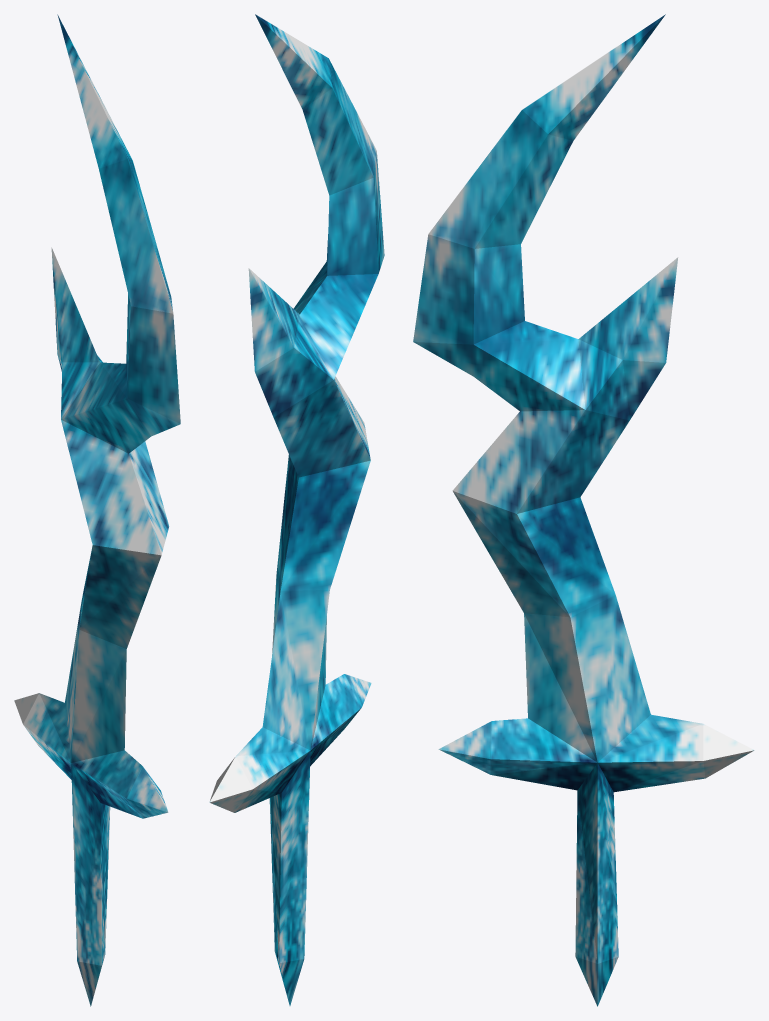
File: blademaster06_1.obj
3 views of the same model, side by side, from view 1: azimuth 30°, elevation 25°; view 2: azimuth 150°, elevation 25°; view 3: azimuth 270°, elevation 25° (orthographic). The views are drawn at different scales.
Parts seen in each view (by area): view 1: MDL_cw1hsw06_1; view 2: MDL_cw1hsw06_1; view 3: MDL_cw1hsw06_1.
Boxes of the visible parts, x1,y1,x2,y2 form: MDL_cw1hsw06_1: (14, 14, 180, 1006); MDL_cw1hsw06_1: (209, 14, 384, 1005); MDL_cw1hsw06_1: (413, 14, 754, 1006).
Size of the model in its own units: 0.1125 by 1.36 by 0.4238.
